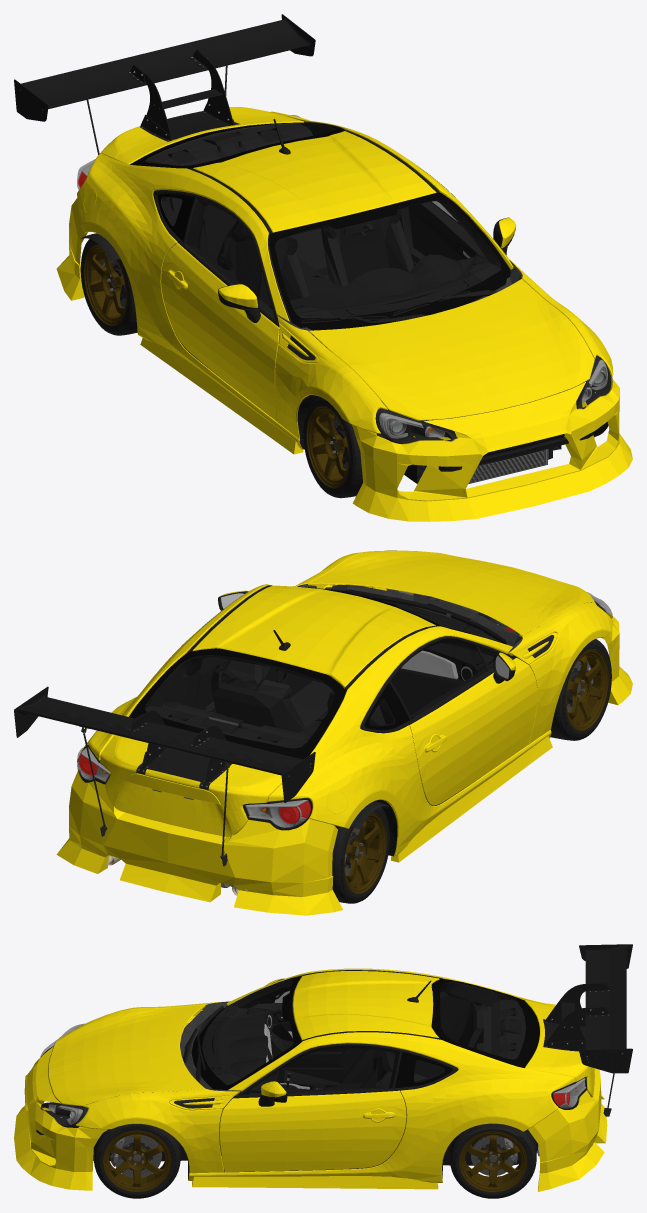
The model's file is BRZ_URAS_Yellow4.glb.
3 views of the same model, one above another, from view 1: azimuth 30°, elevation 25°; view 2: azimuth 150°, elevation 25°; view 3: azimuth 270°, elevation 25° (orthographic). The views are drawn at different scales.
Parts seen in each view (by area): view 1: S1:Hood6_Mesh_022_M_Engine_Max_004_S1:M_CarPaint_Max1_0, S1:Interior5_Mesh_006_M_Interior_Max_S1:M_Interior_Max1_0, URAS_Object_10, S1:Glass6_Mesh_005_M_Opaque_PlasticRoughBlack_Max4_S1:M_Glas, S1:FendersR6_Mesh_019_M_CarPaint_Max_006_S1:M_CarPaint_Max1_, S1:Chassis7_Mesh_M_Opaque_PlasticSmoothBlack_Max_S1:M_CarPai, subaru:Wing6a_Carbon1_Geo_lodA_Wing6a_Carbon1_Geo_lodA_Subar, S1:DoorR4_Mesh_003_M_Opaque_PlasticSmoothBlack_Max1_S1:M_Car, S1:FenderFR6_Mesh_016_M_Opaque_PlasticRoughBlack_Max_008_S1:, S1:Glass6_Mesh_005_M_Opaque_PlasticRoughBlack_Max8_S1:Glass_, S1:DoorR_Glass4_Mesh_004_M_Glass_WindowRight_Low_S1:M_Glass_, S1:Glass6_Mesh_005_M_Opaque_PlasticRoughBlack_Max1_S1:M_Glas (+17 smaller); view 2: URAS_Object_8, S1:FendersR6_Mesh_019_M_CarPaint_Max_006_S1:M_CarPaint_Max1_, S1:Interior5_Mesh_006_M_Interior_Max_S1:M_Interior_Max1_0, S1:Chassis7_Mesh_M_Opaque_PlasticSmoothBlack_Max_S1:M_CarPai, S1:Glass6_Mesh_005_M_Opaque_PlasticRoughBlack_Max1_S1:M_Glas, S1:Hood6_Mesh_022_M_Engine_Max_004_S1:M_CarPaint_Max1_0, S1:DoorR4_Mesh_003_M_Opaque_PlasticSmoothBlack_Max1_S1:M_Car, subaru:Wing6a_Paint_Geo_lodA_Wing6a_Paint_Geo_lodA_Subaru_BR, subaru:Wing6a_Carbon1_Geo_lodA_Wing6a_Carbon1_Geo_lodA_Subar, S1:FenderFR6_Mesh_016_M_Opaque_PlasticRoughBlack_Max_008_S1:, S1:DoorR_Glass4_Mesh_004_M_Glass_WindowRight_Low_S1:M_Glass_, S1:Glass6_Mesh_005_M_Opaque_PlasticRoughBlack_Max7_S1:Glass_ (+15 smaller); view 3: S1:FendersR6_Mesh_019_M_CarPaint_Max_006_S1:M_CarPaint_Max1_, S1:Interior5_Mesh_006_M_Interior_Max_S1:M_Interior_Max1_0, S1:DoorL4_Mesh_001_M_Opaque_PlasticSmoothBlack_Max3_S1:M_Car, S1:Hood6_Mesh_022_M_Engine_Max_004_S1:M_CarPaint_Max1_0, S1:Chassis7_Mesh_M_Opaque_PlasticSmoothBlack_Max_S1:M_CarPai, subaru:Wing6a_Carbon1_Geo_lodA_Wing6a_Carbon1_Geo_lodA_Subar, S1:FenderFL6_Mesh_015_M_Opaque_PlasticRoughBlack_Max_007_S1:, URAS_Object_10, S1:Glass6_Mesh_005_M_Opaque_PlasticRoughBlack_Max4_S1:M_Glas, URAS_Object_8, S1:Glass6_Mesh_005_M_Opaque_PlasticRoughBlack_Max1_S1:M_Glas, S1:DoorL_Glass4_Mesh_002_M_Glass_WindowLeft_Low_S1:M_Glass_W (+20 smaller).
Boxes of the visible parts, x1,y1,x2,y2 form: S1:Hood6_Mesh_022_M_Engine_Max_004_S1:M_CarPaint_Max1_0: (309,279,594,420); S1:Interior5_Mesh_006_M_Interior_Max_S1:M_Interior_Max1_0: (145,123,501,415); URAS_Object_10: (351,377,632,521); S1:Glass6_Mesh_005_M_Opaque_PlasticRoughBlack_Max4_S1:M_Glas: (275,200,500,317); S1:FendersR6_Mesh_019_M_CarPaint_Max_006_S1:M_CarPaint_Max1_: (77,111,513,426); S1:Chassis7_Mesh_M_Opaque_PlasticSmoothBlack_Max_S1:M_CarPai: (193,131,436,232); subaru:Wing6a_Carbon1_Geo_lodA_Wing6a_Carbon1_Geo_lodA_Subar: (14,14,315,140); S1:DoorR4_Mesh_003_M_Opaque_PlasticSmoothBlack_Max1_S1:M_Car: (161,243,279,421); S1:FenderFR6_Mesh_016_M_Opaque_PlasticRoughBlack_Max_008_S1:: (275,316,387,449); S1:Glass6_Mesh_005_M_Opaque_PlasticRoughBlack_Max8_S1:Glass_: (269,192,510,330); S1:DoorR_Glass4_Mesh_004_M_Glass_WindowRight_Low_S1:M_Glass_: (185,199,274,317); S1:Glass6_Mesh_005_M_Opaque_PlasticRoughBlack_Max1_S1:M_Glas: (146,123,334,165); URAS_Object_8: (56,769,343,915); S1:FendersR6_Mesh_019_M_CarPaint_Max_006_S1:M_CarPaint_Max1_: (77,584,529,856); S1:Interior5_Mesh_006_M_Interior_Max_S1:M_Interior_Max1_0: (145,596,522,805); S1:Chassis7_Mesh_M_Opaque_PlasticSmoothBlack_Max_S1:M_CarPai: (192,585,435,688); S1:Glass6_Mesh_005_M_Opaque_PlasticRoughBlack_Max1_S1:M_Glas: (145,655,343,747); S1:Hood6_Mesh_022_M_Engine_Max_004_S1:M_CarPaint_Max1_0: (309,550,594,635); S1:DoorR4_Mesh_003_M_Opaque_PlasticSmoothBlack_Max1_S1:M_Car: (409,658,537,805); subaru:Wing6a_Paint_Geo_lodA_Wing6a_Paint_Geo_lodA_Subaru_BR: (100,735,282,836); subaru:Wing6a_Carbon1_Geo_lodA_Wing6a_Carbon1_Geo_lodA_Subar: (14,686,315,802); S1:FenderFR6_Mesh_016_M_Opaque_PlasticRoughBlack_Max_008_S1:: (508,602,613,749); S1:DoorR_Glass4_Mesh_004_M_Glass_WindowRight_Low_S1:M_Glass_: (391,640,495,718); S1:Glass6_Mesh_005_M_Opaque_PlasticRoughBlack_Max7_S1:Glass_: (129,648,346,759); S1:FendersR6_Mesh_019_M_CarPaint_Max_006_S1:M_CarPaint_Max1_: (224,968,575,1182); S1:Interior5_Mesh_006_M_Interior_Max_S1:M_Interior_Max1_0: (202,979,525,1172); S1:DoorL4_Mesh_001_M_Opaque_PlasticSmoothBlack_Max3_S1:M_Car: (219,1090,406,1171); S1:Hood6_Mesh_022_M_Engine_Max_004_S1:M_CarPaint_Max1_0: (48,1005,204,1106); S1:Chassis7_Mesh_M_Opaque_PlasticSmoothBlack_Max_S1:M_CarPai: (293,971,439,1039); subaru:Wing6a_Carbon1_Geo_lodA_Wing6a_Carbon1_Geo_lodA_Subar: (544,944,632,1073); S1:FenderFL6_Mesh_015_M_Opaque_PlasticRoughBlack_Max_007_S1:: (76,1088,239,1180); URAS_Object_10: (14,1046,107,1190); S1:Glass6_Mesh_005_M_Opaque_PlasticRoughBlack_Max4_S1:M_Glas: (202,979,293,1084); URAS_Object_8: (528,1068,607,1191); S1:Glass6_Mesh_005_M_Opaque_PlasticRoughBlack_Max1_S1:M_Glas: (432,982,525,1058); S1:DoorL_Glass4_Mesh_002_M_Glass_WindowLeft_Low_S1:M_Glass_W: (244,1046,399,1094).
Size of the model in its own units: 1.86 by 1.28 by 4.24.
28 materials, 11 textured.
